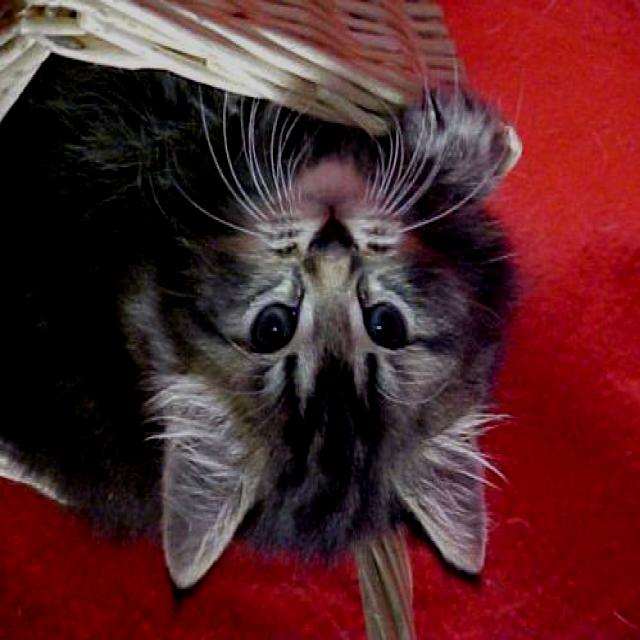Kucing: (4, 69, 554, 616)
